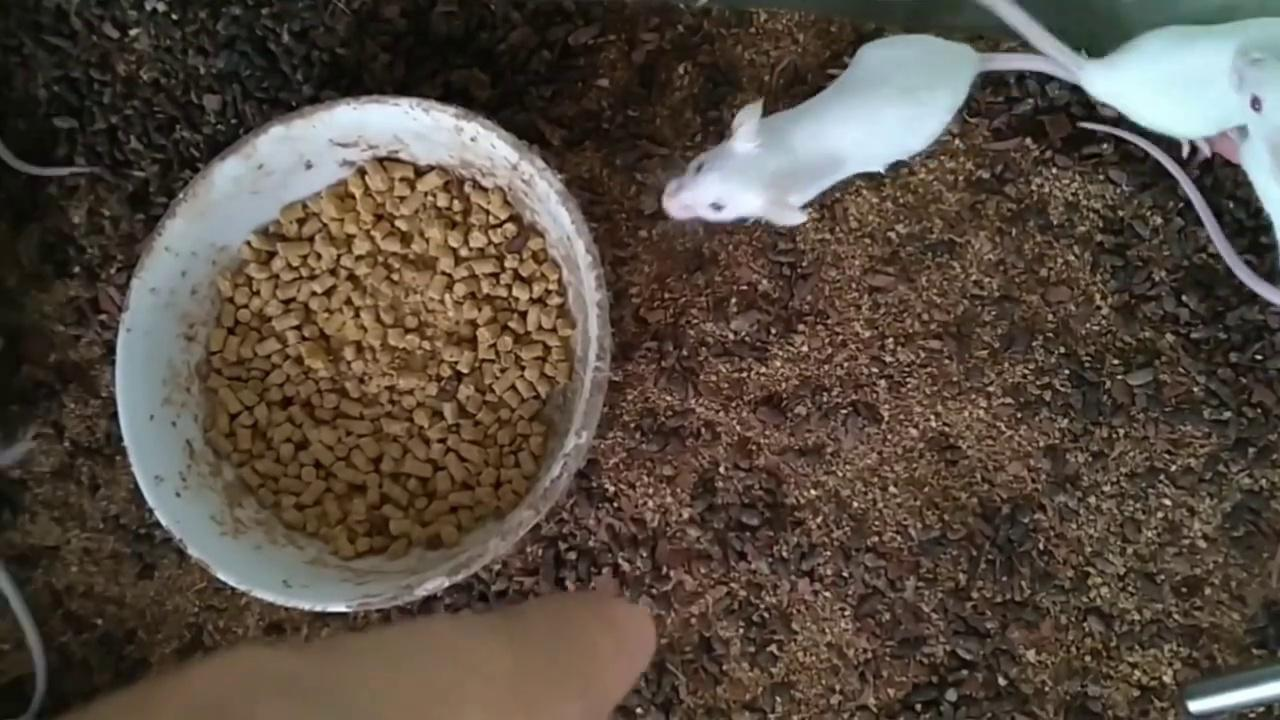rat: (663, 32, 1068, 224), (1235, 44, 1280, 241)
